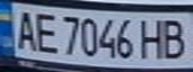0: (78, 15, 100, 58)
4: (97, 15, 118, 60)
6: (115, 16, 139, 60)
7: (57, 12, 81, 56)
A: (9, 7, 39, 52)
B: (157, 16, 190, 60)
E: (30, 8, 60, 54)
H: (136, 16, 169, 60)
